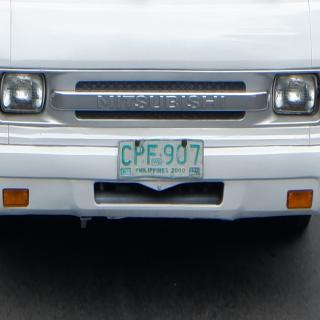license: (119, 140, 204, 179)
